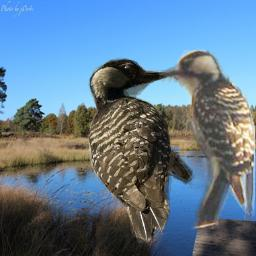Woodpecker: (88, 57, 197, 247), (159, 49, 255, 229)
